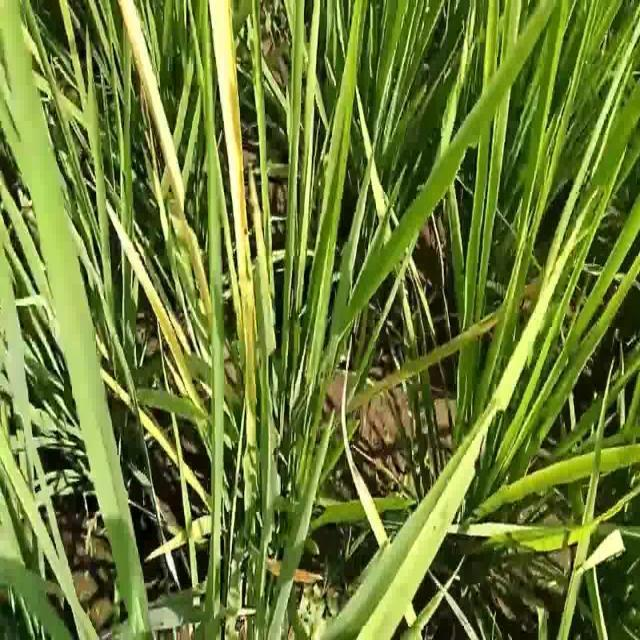Rice Tungro: (210, 1, 268, 375), (101, 192, 195, 396), (116, 1, 188, 220)
